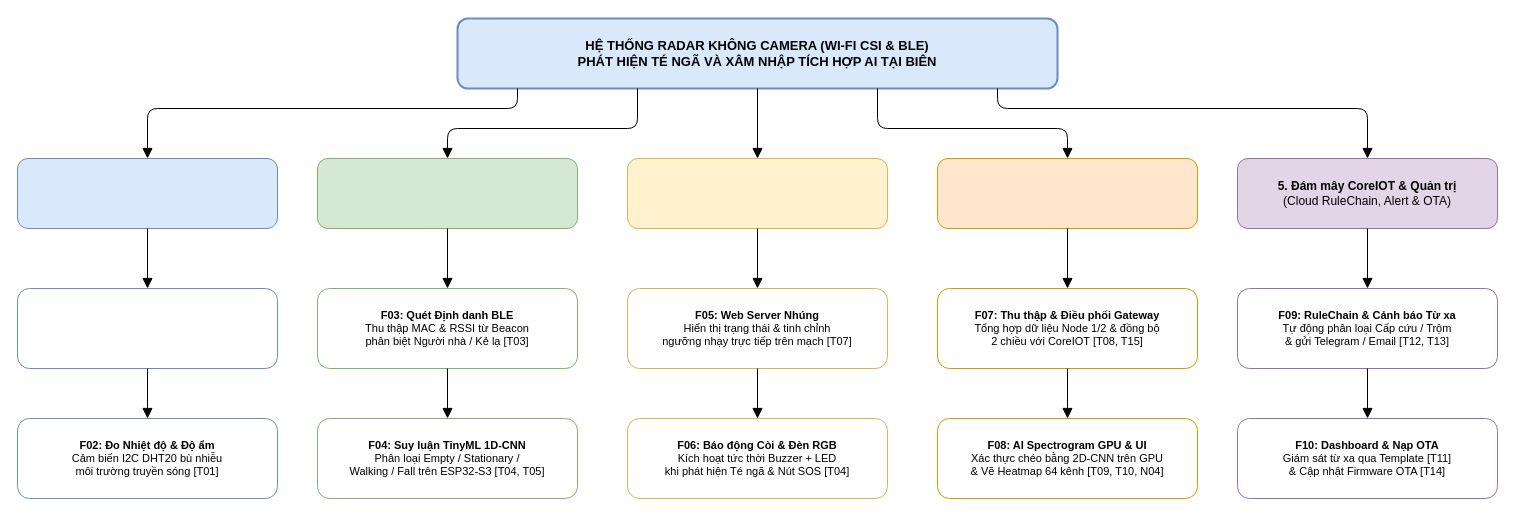
This 1515x516 diagram has some shape labels left out. The shapes that lost their labels are listed below. From the top down, each one's box as (x1, y1, x2, y2) in pixels, then its label:
(16, 158, 278, 228): 1. Cảm biến & Sóng Vô tuyến (RF CSI & Environmental Sensing)
(316, 158, 578, 228): 2. Định danh & Học máy tại Biên (BLE Identity & Edge TinyML)
(626, 158, 888, 228): 3. Giao diện & Báo động Tại chỗ (Embedded Web & Local Alarm)
(936, 158, 1198, 228): 4. Trạm Local IoT Gateway (PC Gateway, GPU AI & Local UI)
(16, 288, 278, 368): F01: Phát & Thu Ma trận CSI Giao tiếp ESP-NOW 100 Hz giữa 2 mạch YoloUNO [T06]
